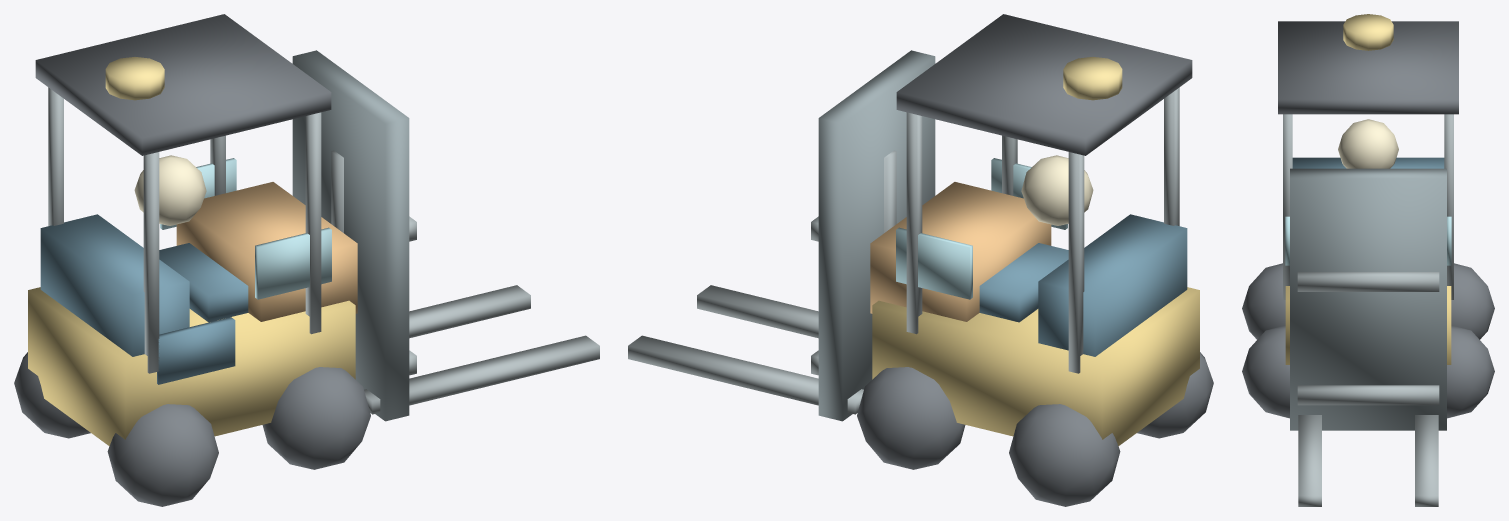
The model's file is mercy_forklift.glb.
3 renders of one model, left to right at view 1: azimuth 30°, elevation 25°; view 2: azimuth 150°, elevation 25°; view 3: azimuth 270°, elevation 25°, orthographic. The views are drawn at different scales.
Visible parts, largest first — view 1: MERCY_BLACK_03, MERCY_GOLD_00, MERCY_DARKSTEEL_06, MERCY_NAVY_02, MERCY_STEEL_05, MERCY_ORANGE_01, MERCY_GLASS_09, MERCY_LAMP_07, MERCY_YELLOW_08; view 2: MERCY_BLACK_03, MERCY_GOLD_00, MERCY_DARKSTEEL_06, MERCY_STEEL_05, MERCY_NAVY_02, MERCY_ORANGE_01, MERCY_GLASS_09, MERCY_LAMP_07, MERCY_YELLOW_08; view 3: MERCY_DARKSTEEL_06, MERCY_BLACK_03, MERCY_STEEL_05, MERCY_LAMP_07, MERCY_YELLOW_08, MERCY_NAVY_02, MERCY_GOLD_00, MERCY_GLASS_09.
Part boxes in pixels (x1,y1,x2,y2): MERCY_BLACK_03: [14, 14, 370, 506]; MERCY_GOLD_00: [28, 287, 355, 446]; MERCY_DARKSTEEL_06: [292, 50, 409, 421]; MERCY_NAVY_02: [40, 214, 248, 384]; MERCY_STEEL_05: [48, 87, 599, 414]; MERCY_ORANGE_01: [176, 182, 357, 321]; MERCY_GLASS_09: [160, 158, 331, 299]; MERCY_LAMP_07: [134, 155, 206, 225]; MERCY_YELLOW_08: [105, 57, 164, 100]; MERCY_BLACK_03: [857, 14, 1213, 506]; MERCY_GOLD_00: [872, 287, 1199, 446]; MERCY_DARKSTEEL_06: [818, 50, 935, 421]; MERCY_STEEL_05: [628, 87, 1179, 414]; MERCY_NAVY_02: [979, 214, 1187, 356]; MERCY_ORANGE_01: [870, 182, 1051, 321]; MERCY_GLASS_09: [896, 158, 1067, 299]; MERCY_LAMP_07: [1021, 155, 1093, 225]; MERCY_YELLOW_08: [1063, 57, 1122, 100]; MERCY_DARKSTEEL_06: [1290, 168, 1446, 430]; MERCY_BLACK_03: [1242, 21, 1494, 418]; MERCY_STEEL_05: [1283, 114, 1453, 506]; MERCY_LAMP_07: [1338, 119, 1398, 168]; MERCY_YELLOW_08: [1343, 14, 1393, 50]; MERCY_NAVY_02: [1292, 157, 1444, 168]; MERCY_GOLD_00: [1285, 286, 1451, 364]; MERCY_GLASS_09: [1285, 216, 1451, 265].
Size of the model in its own units: 3.45 by 2.65 by 1.82.
